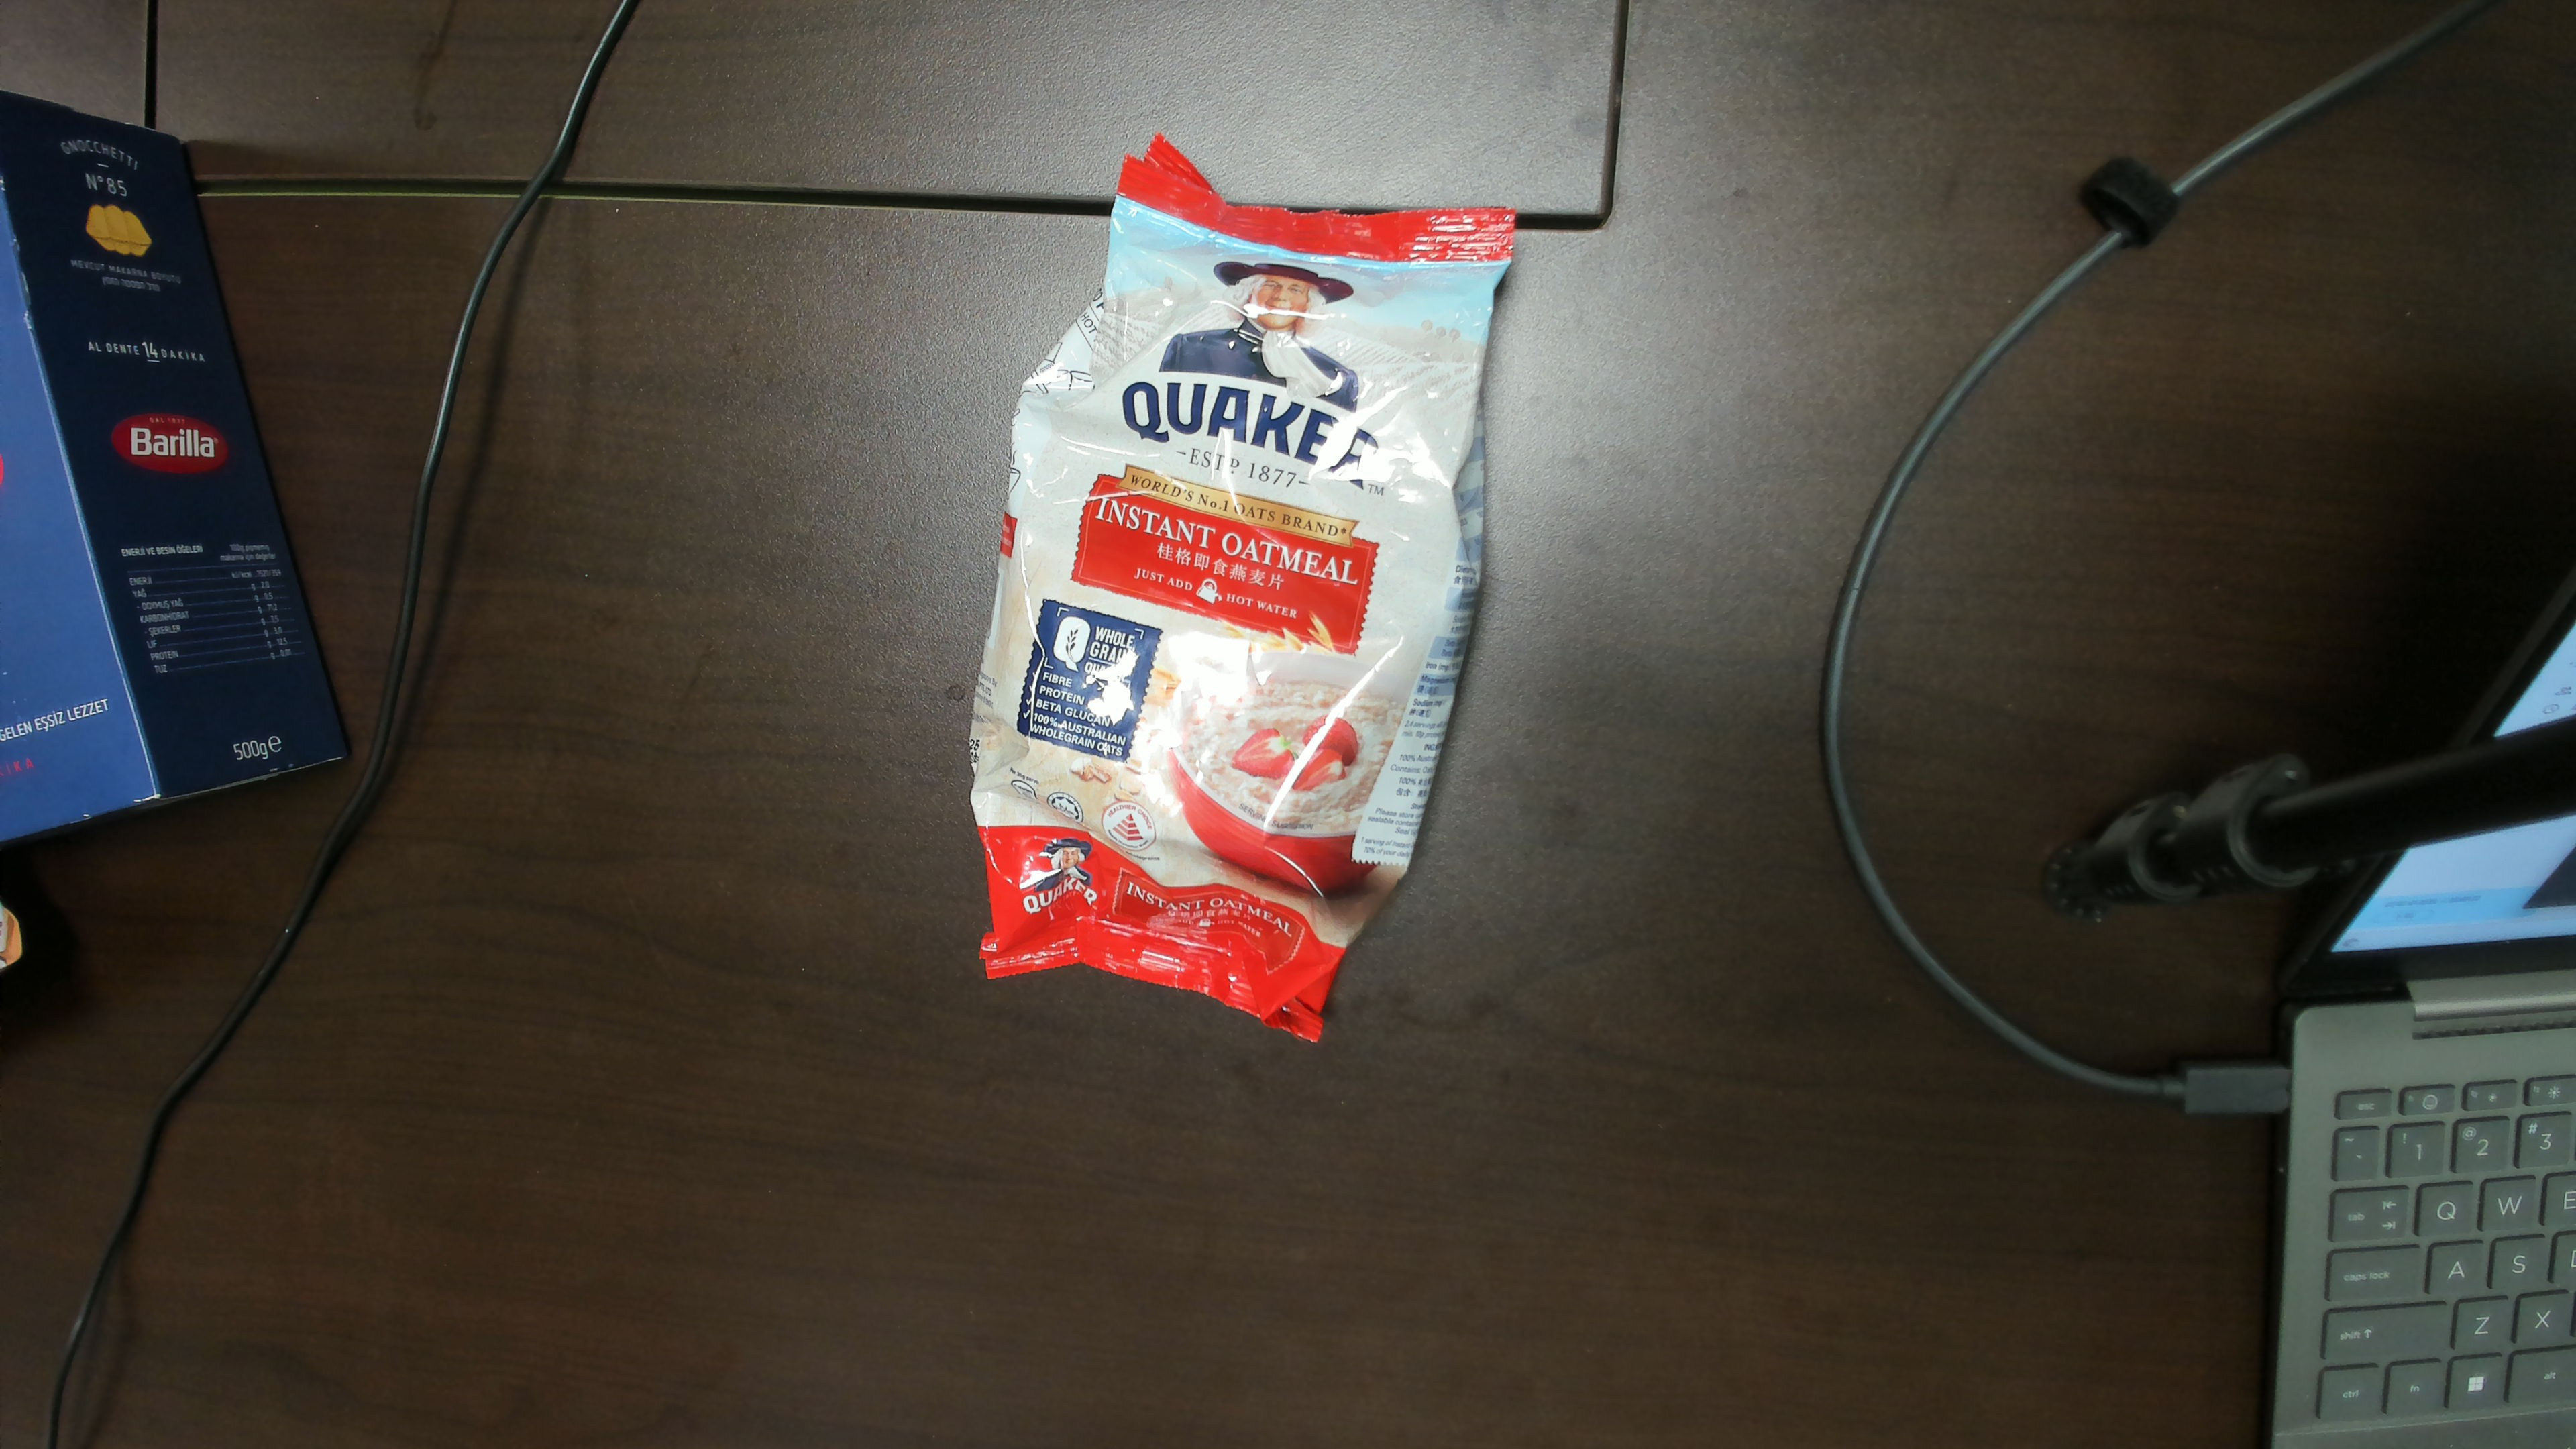RolledOatsInstantOatmeal_400-499g_Halal_Healthy: (1017, 242, 1424, 932)
